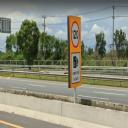speed_limit_120: (71, 20, 80, 49)
